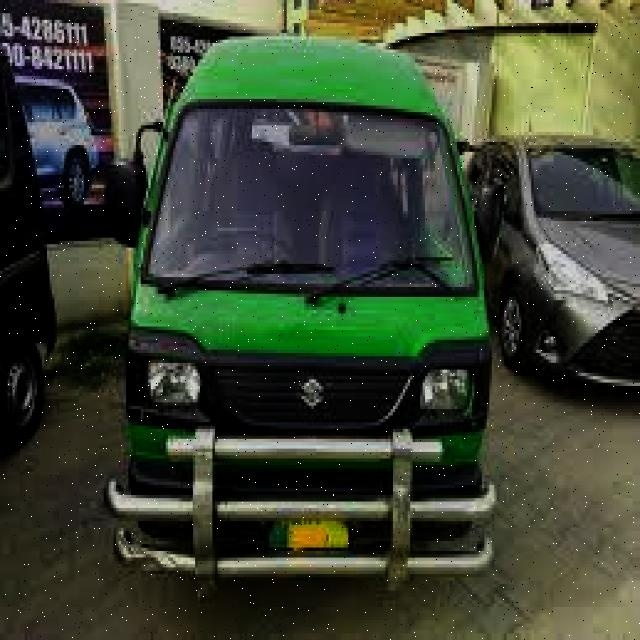Van: (101, 26, 504, 594)
